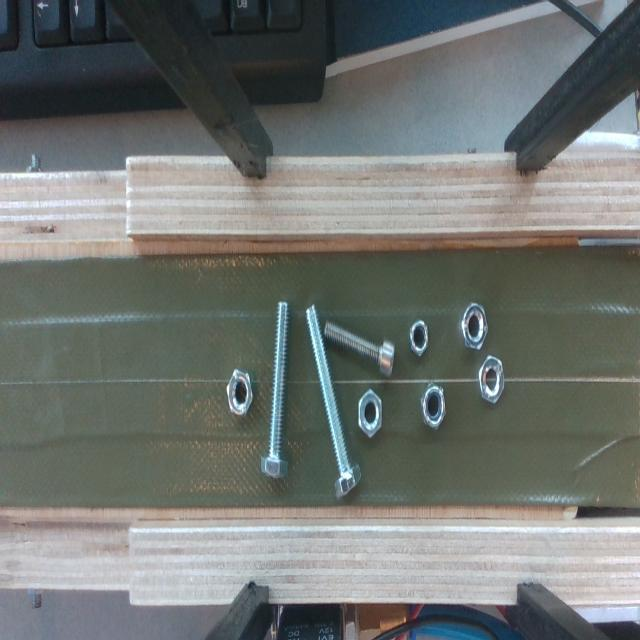Bolt: (306, 305, 360, 497), (261, 302, 289, 478), (324, 321, 394, 377)
Nut: (461, 302, 488, 349), (226, 369, 252, 416), (479, 357, 504, 403), (359, 390, 381, 438), (421, 385, 445, 428), (409, 319, 429, 357)
